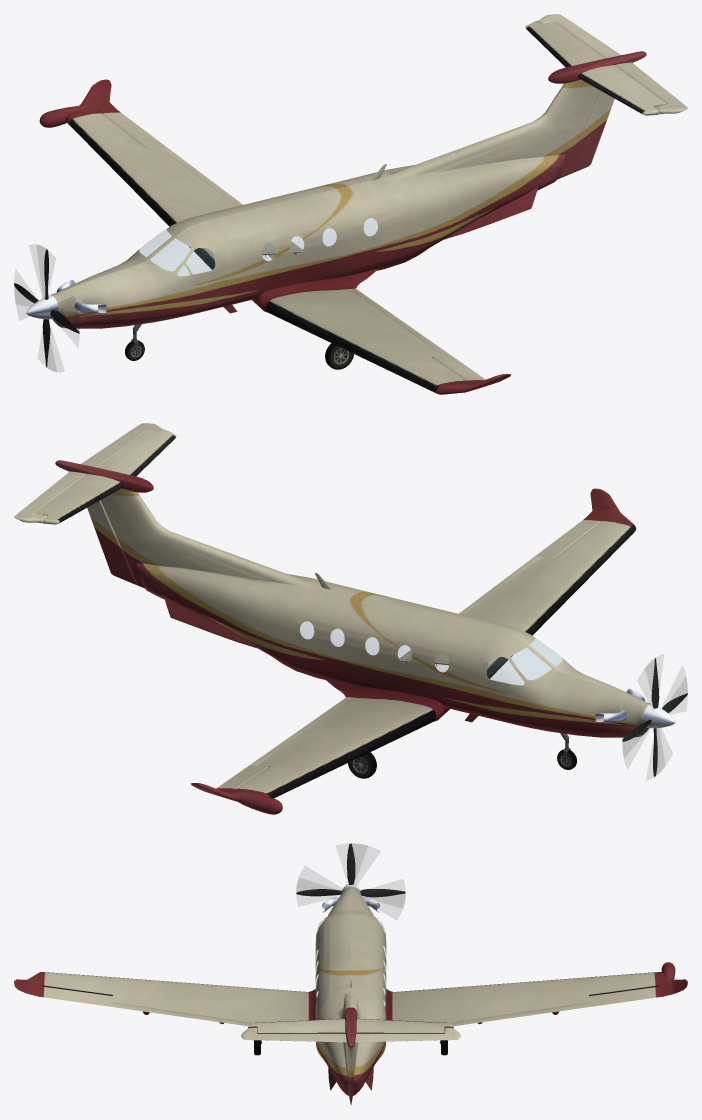
The picture shows the model from 3 angles, top to bottom: view 1: azimuth 30°, elevation 25°; view 2: azimuth 150°, elevation 25°; view 3: azimuth 270°, elevation 25°; orthographic projection. The views are drawn at different scales.
Size of the model in its own units: 14.39 by 4.19 by 16.21.
Materials: 2 (2 with a texture image).
